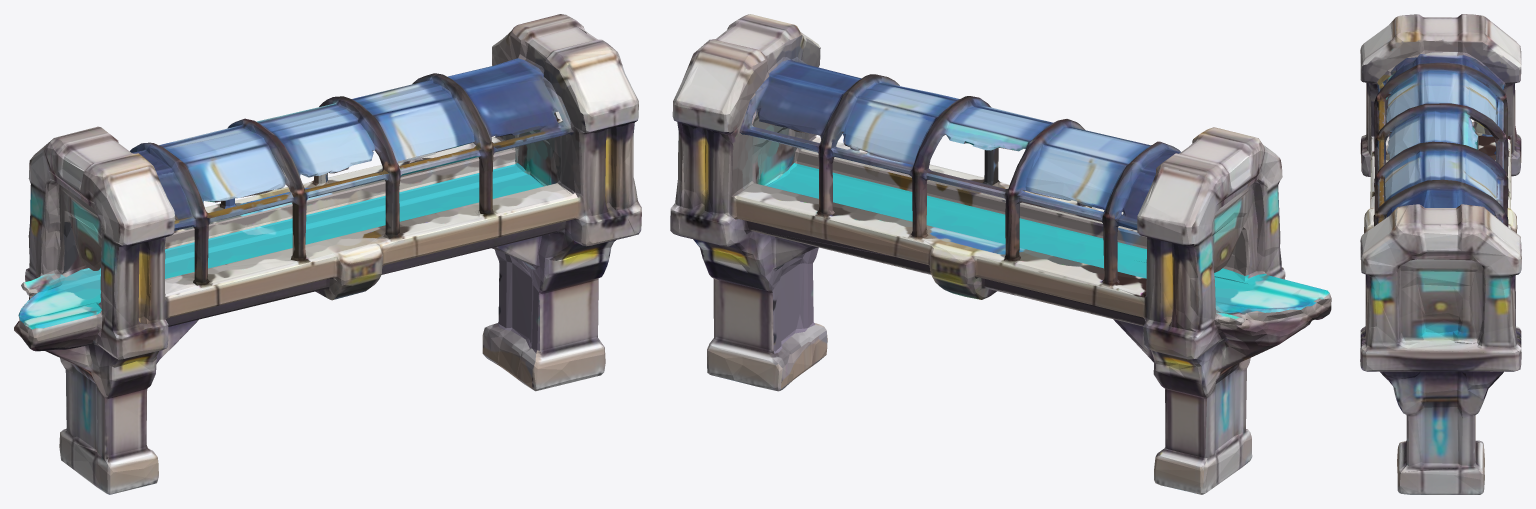
File: cyber_skybridge_1117.glb
3 views of the same model, side by side, from view 1: azimuth 30°, elevation 25°; view 2: azimuth 150°, elevation 25°; view 3: azimuth 270°, elevation 25° (orthographic). The views are drawn at different scales.
Visible parts, largest first — view 1: tmp89t5frxj.ply; view 2: tmp89t5frxj.ply; view 3: tmp89t5frxj.ply.
Part boxes in pixels (left/top/right/bottom): tmp89t5frxj.ply: left=14, top=14, right=641, bottom=494; tmp89t5frxj.ply: left=670, top=14, right=1331, bottom=494; tmp89t5frxj.ply: left=1360, top=14, right=1521, bottom=494.
Size of the model in its own units: 1.99 by 1.05 by 0.5564.
1 material, 1 textured.
